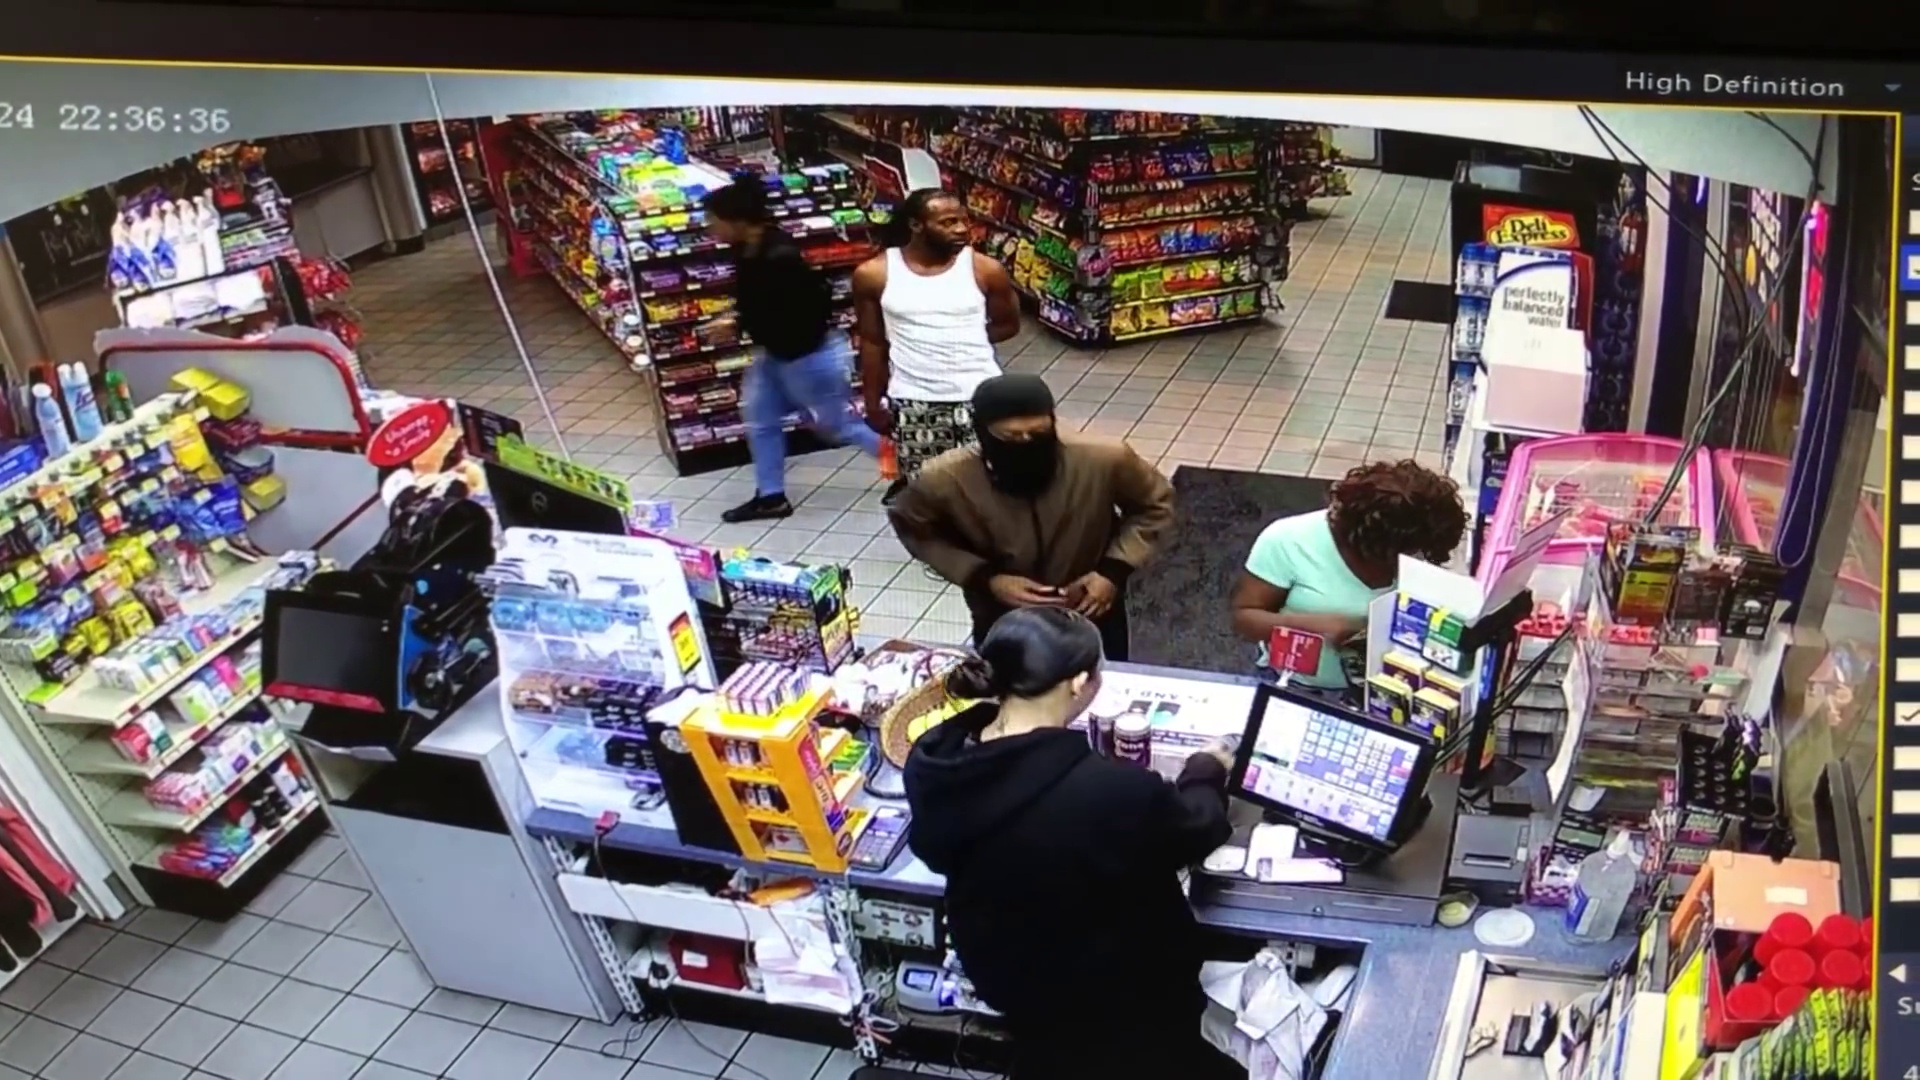face: (986, 392, 1053, 469), (915, 190, 972, 257)
